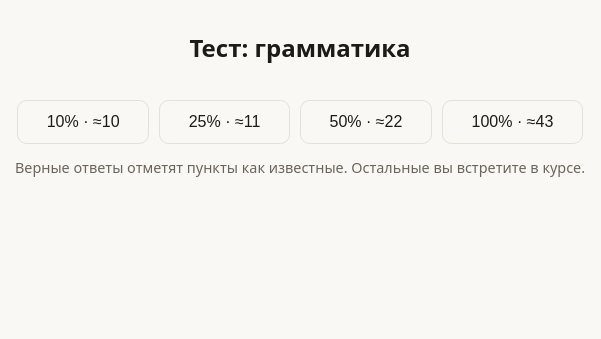
PlacementScreen › one-ways placement_offered even when the test marks zero cards
Click the button "10% · ≈10" at (83, 122), box [17,100,149,144]
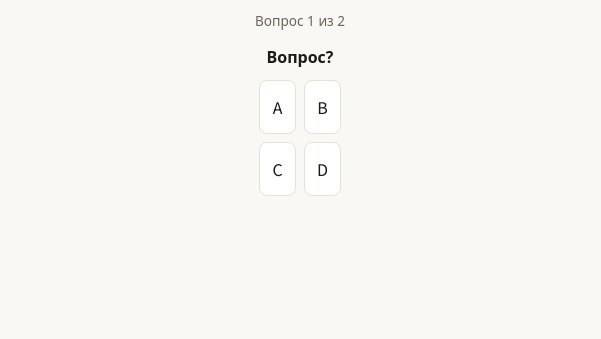
Click the button "A" at (278, 107), box [259,80,296,134]
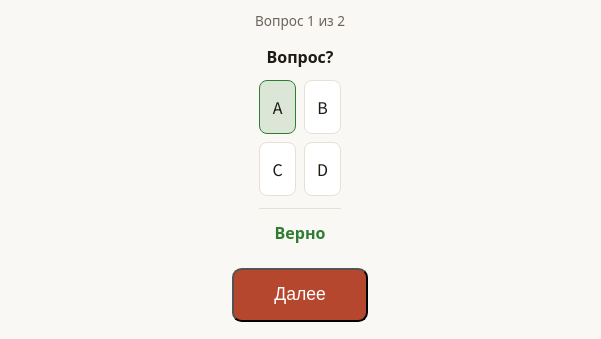
Click the button "Далее" at (300, 295), box [232,268,368,322]
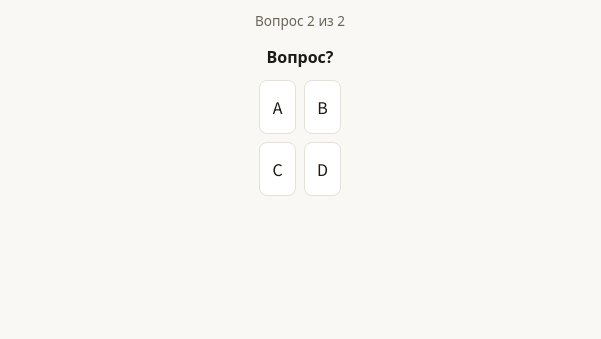
Click the button "A" at (278, 107), box [259,80,296,134]
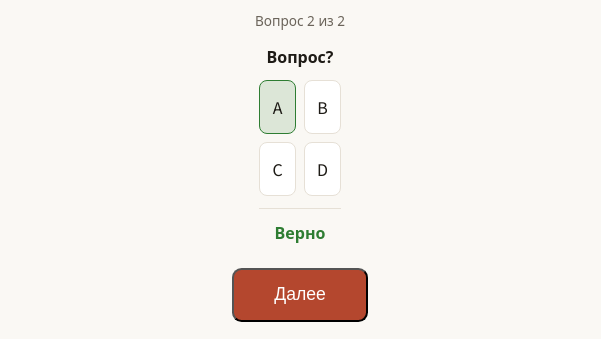
Click the button "Далее" at (300, 295), box [232,268,368,322]
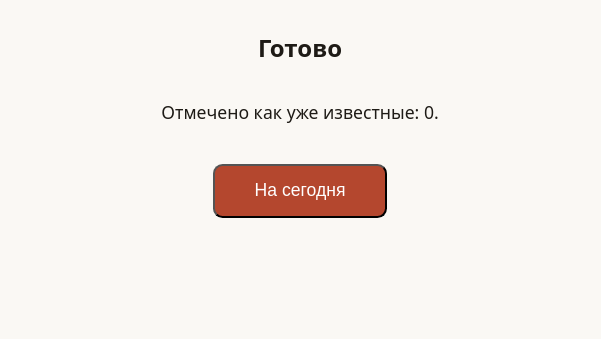
Expected: the text "Отмечено как уже известные: 0." is shown, [161,100,439,124]
